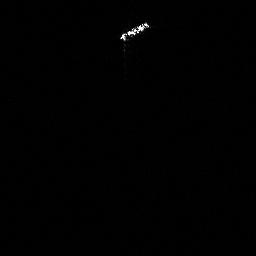ship: (117, 19, 153, 43)
